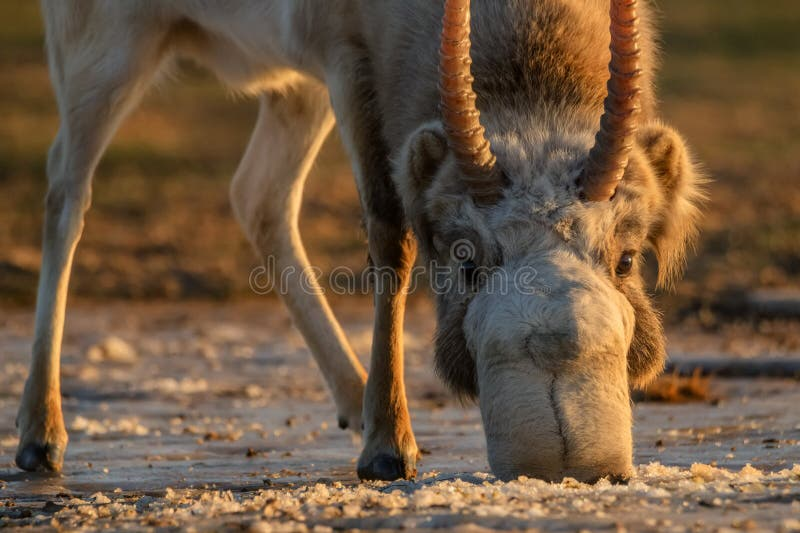saiga: (18, 1, 693, 514)
